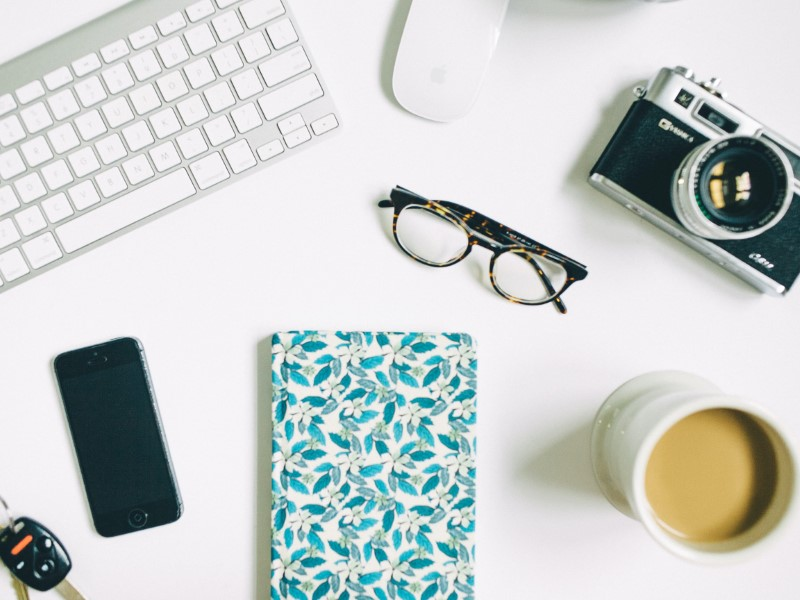carkey: (1, 508, 91, 598)
